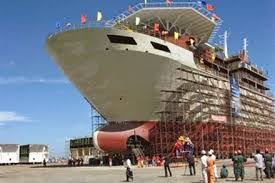tau_dansu: (47, 18, 275, 146)
